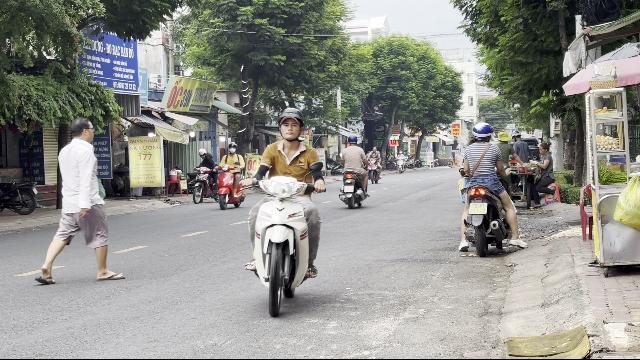helmet: (276, 109, 304, 141), (471, 122, 493, 142)
licenseplate: (469, 202, 486, 213)
motorcyclist: (241, 107, 327, 308), (454, 121, 520, 256)
